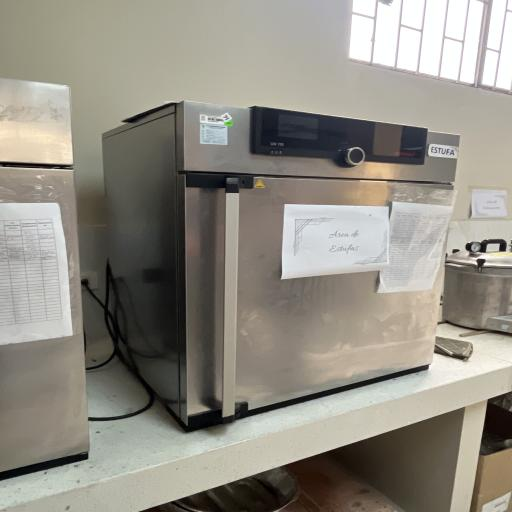Estufa_Memmert: (90, 92, 470, 438)
